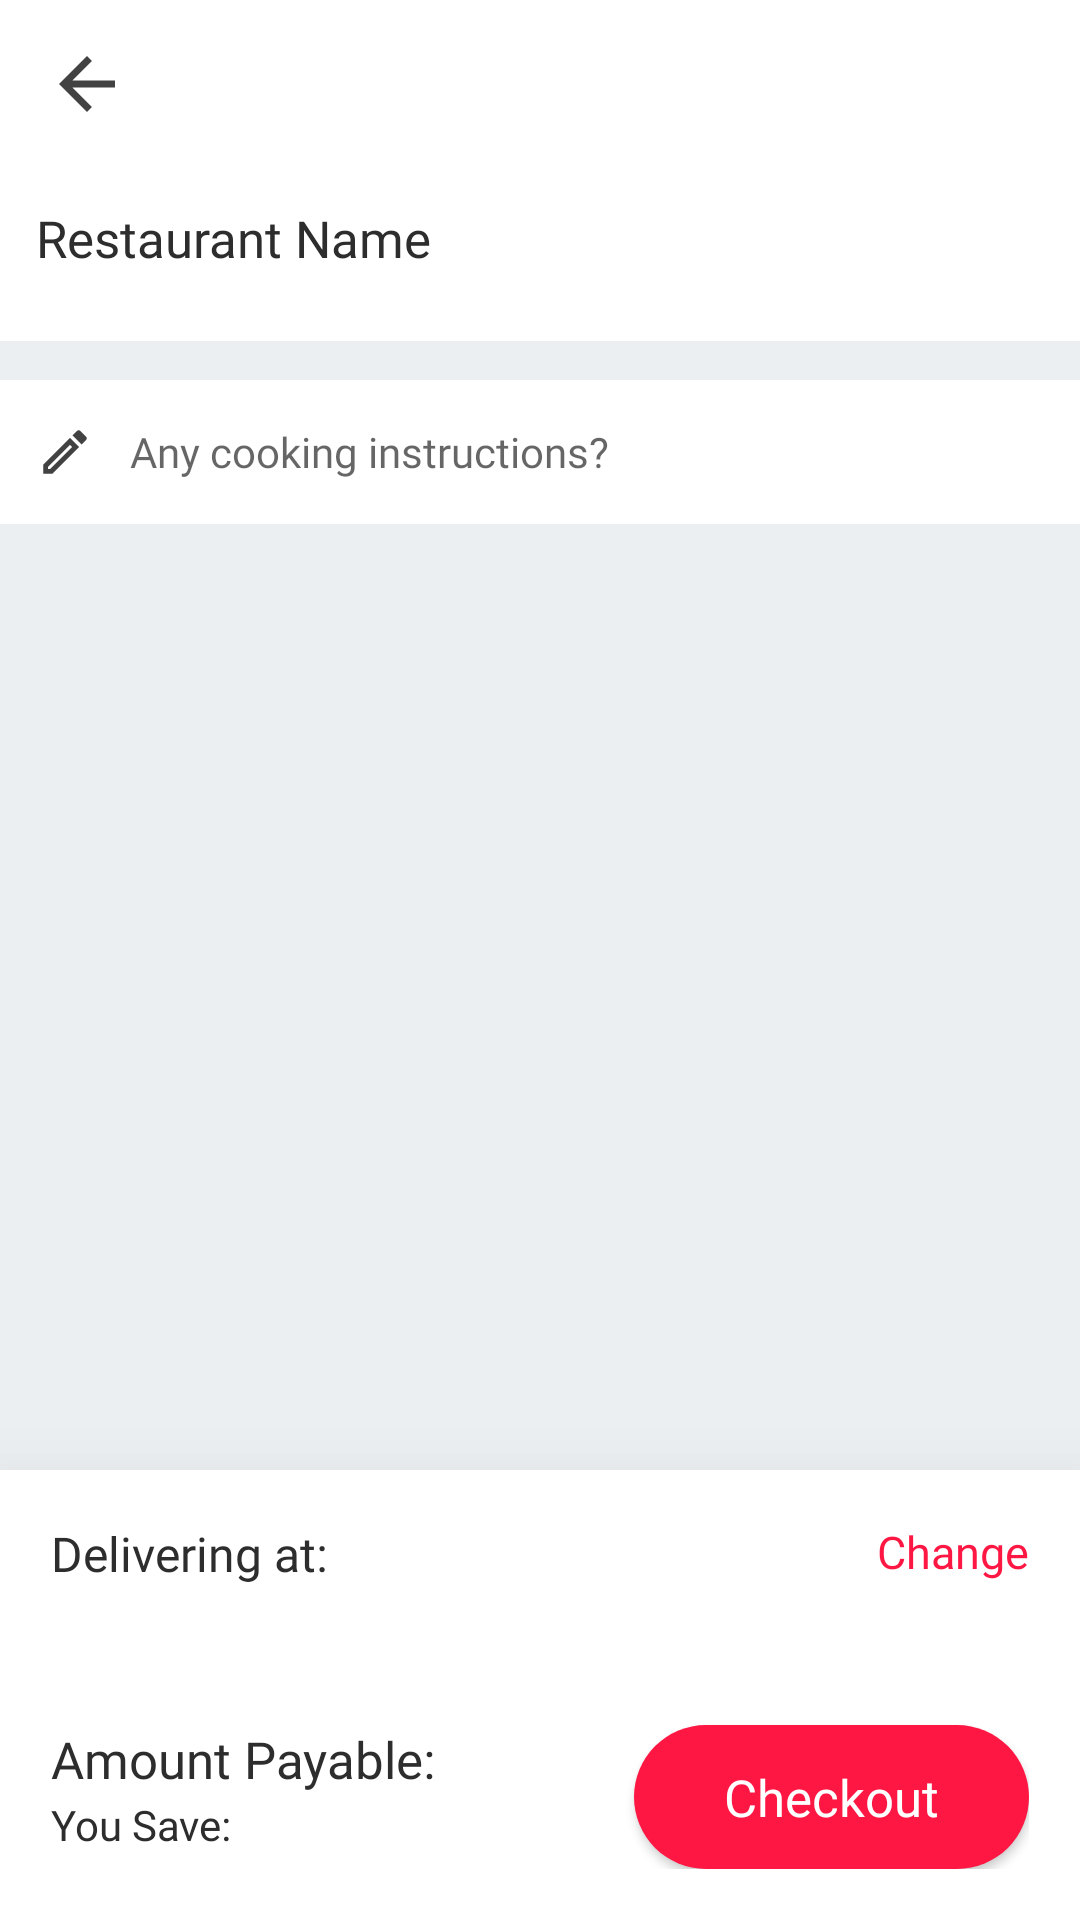

Icon bounding boxes for this 1080px×1920px phone screenshot, format [x1, y1, x2, y2]:
back arrow: [59, 56, 115, 112]
extra instructions: [43, 430, 87, 474]
